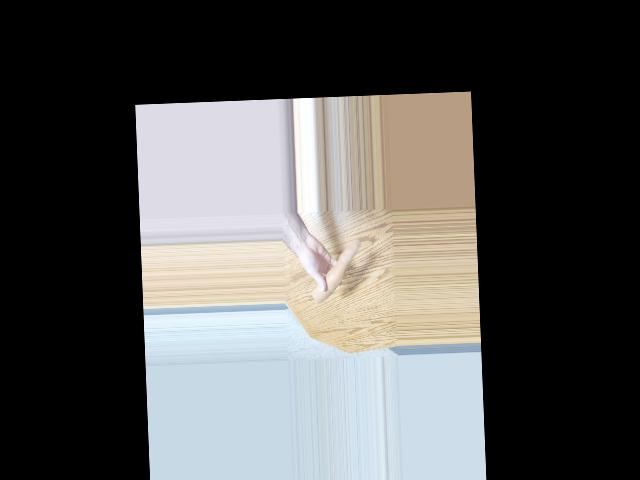sweet_potato: (309, 239, 360, 298)
